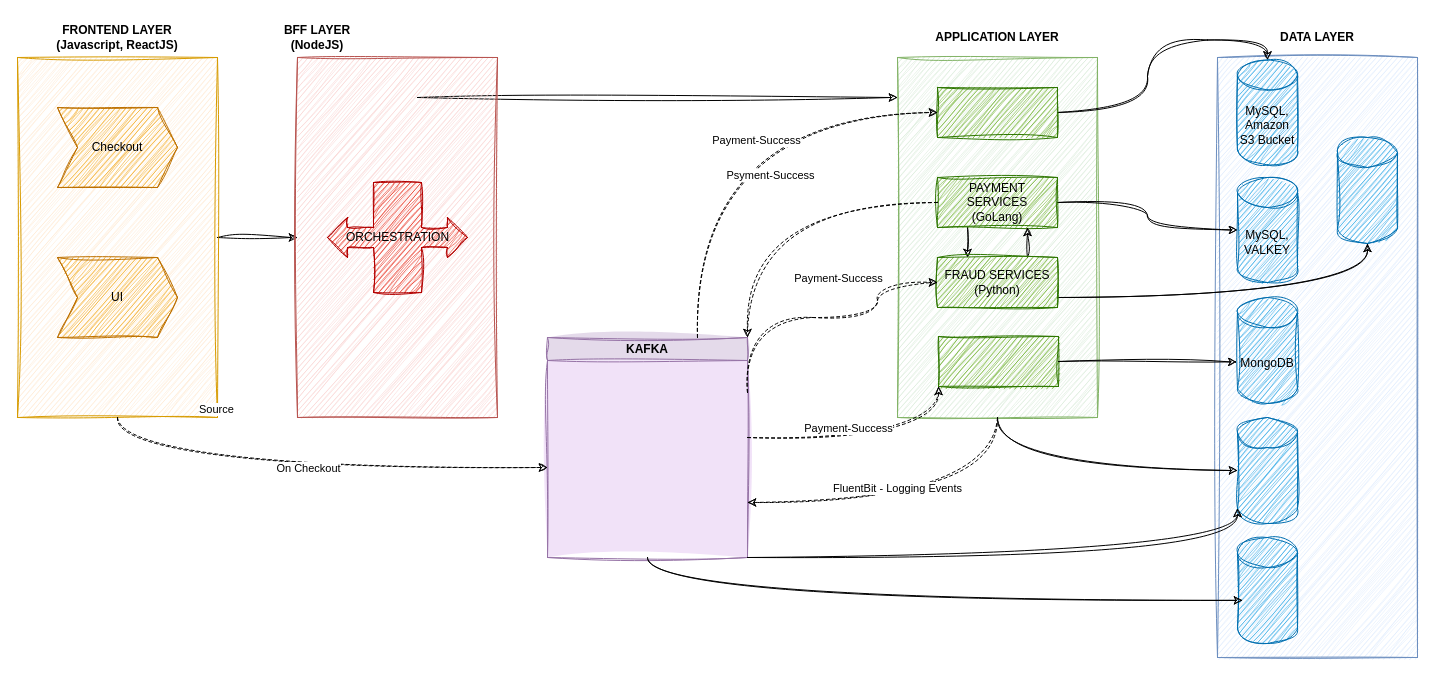
Image size: 1435x675. Some labels were removed from this diagram. The shapes that lost their labels are listed below. From the top down, each one's centre as x and y in pixels, then its label:
At (x=997, y=112): "LEDGER SERVICES (SpringBoot)".
At (x=1367, y=190): "Neo4J, VALKEY, Amazon S3".
At (x=998, y=361): "NOTIFICATION SERVICES (NodeJS)".
At (x=1267, y=470): "Open Search".
At (x=1267, y=590): "Amazon S3".
